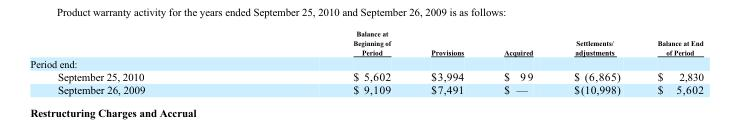table: (29, 29, 702, 95)
table column: (29, 29, 248, 95), (248, 29, 410, 95), (552, 29, 638, 95), (410, 29, 483, 95), (483, 29, 552, 95), (638, 29, 702, 95)
table column header: (29, 29, 702, 56)
table projected row header: (29, 56, 702, 69)
table row: (29, 29, 702, 56), (29, 56, 702, 69), (29, 69, 702, 82), (29, 82, 702, 95)
